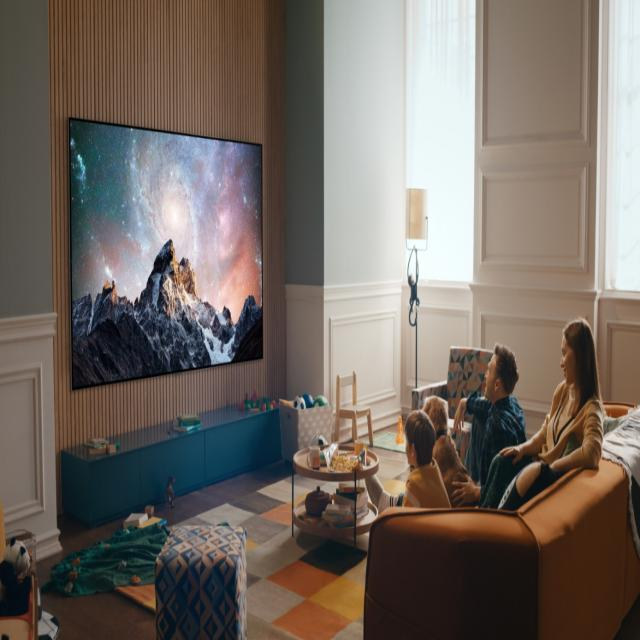tv-person: (63, 107, 607, 550)
